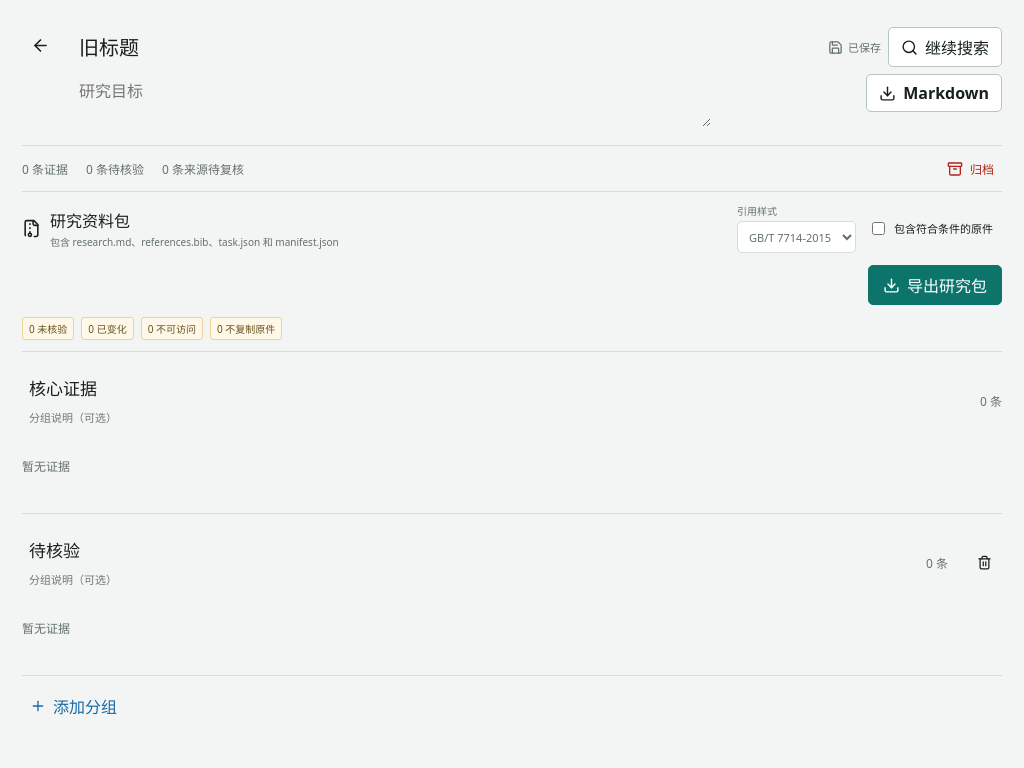
Test: task resilience › saves an immediate title edit before returning to the task list
The image size is (1024, 768).
Replace the text in the field named "资料包名称" with "刚编辑的新标题" at (391, 46), box [70,27,712,66]
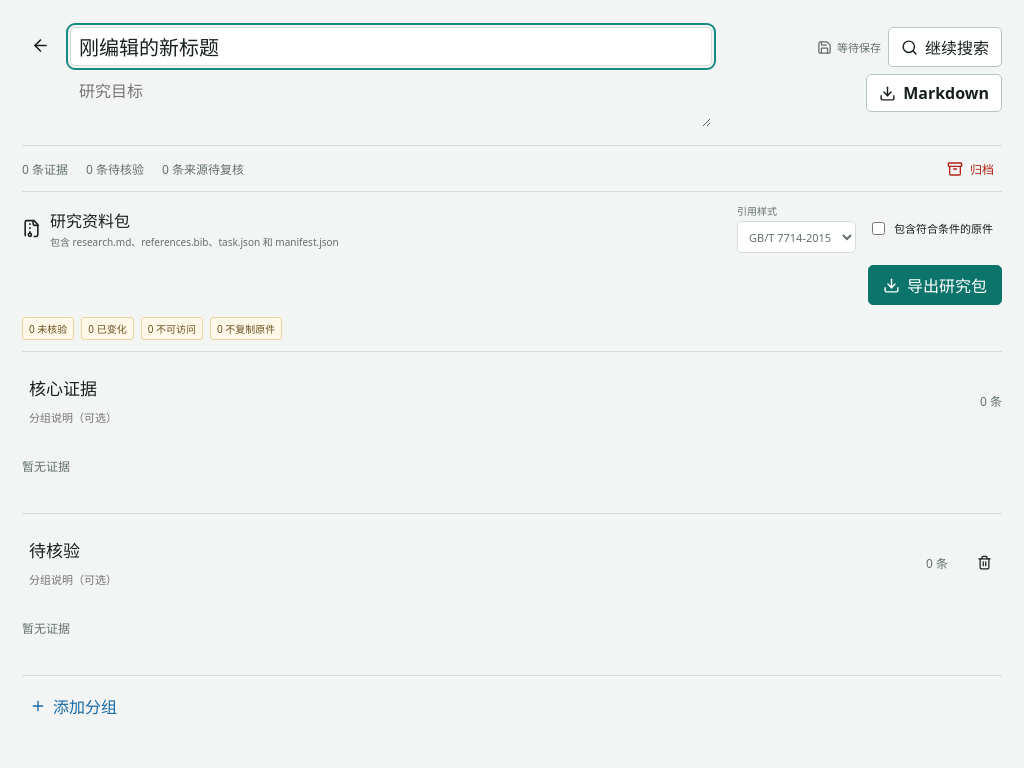
Click the button named "返回资料包列表" at (40, 45), box [22,27,58,63]
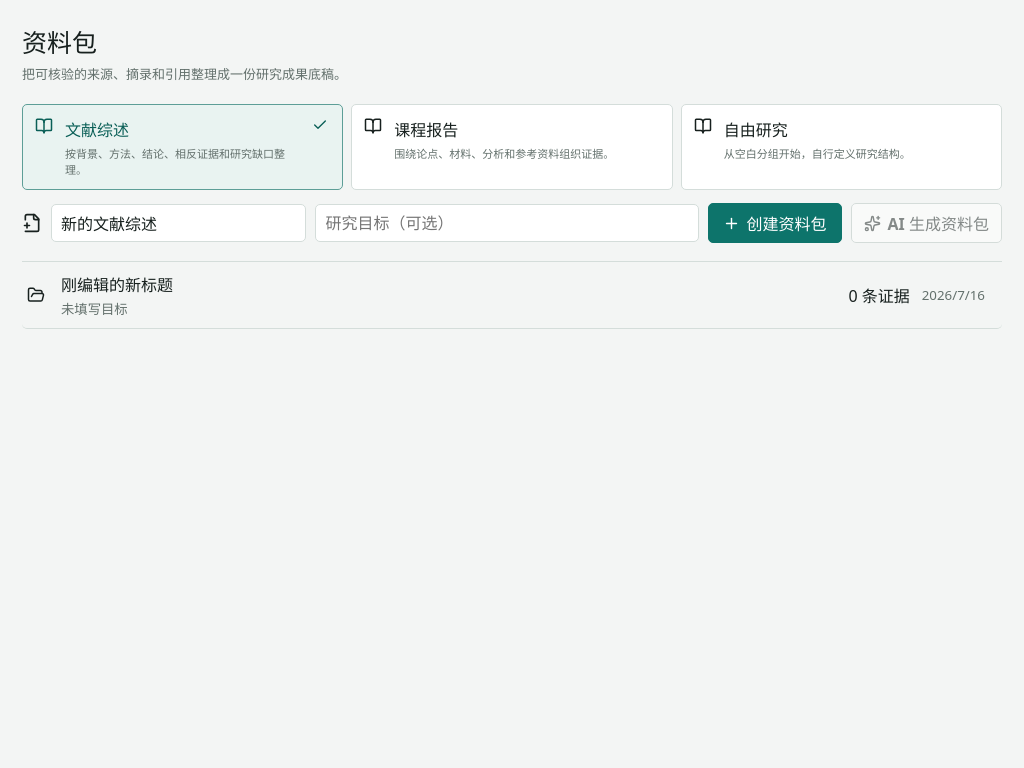
Expected: the button "刚编辑的新标题 未填写目标 0 条证据 2026/7/16" is shown, [22,262,1002,329]
